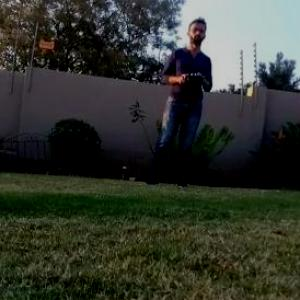follow: (138, 10, 216, 193)
